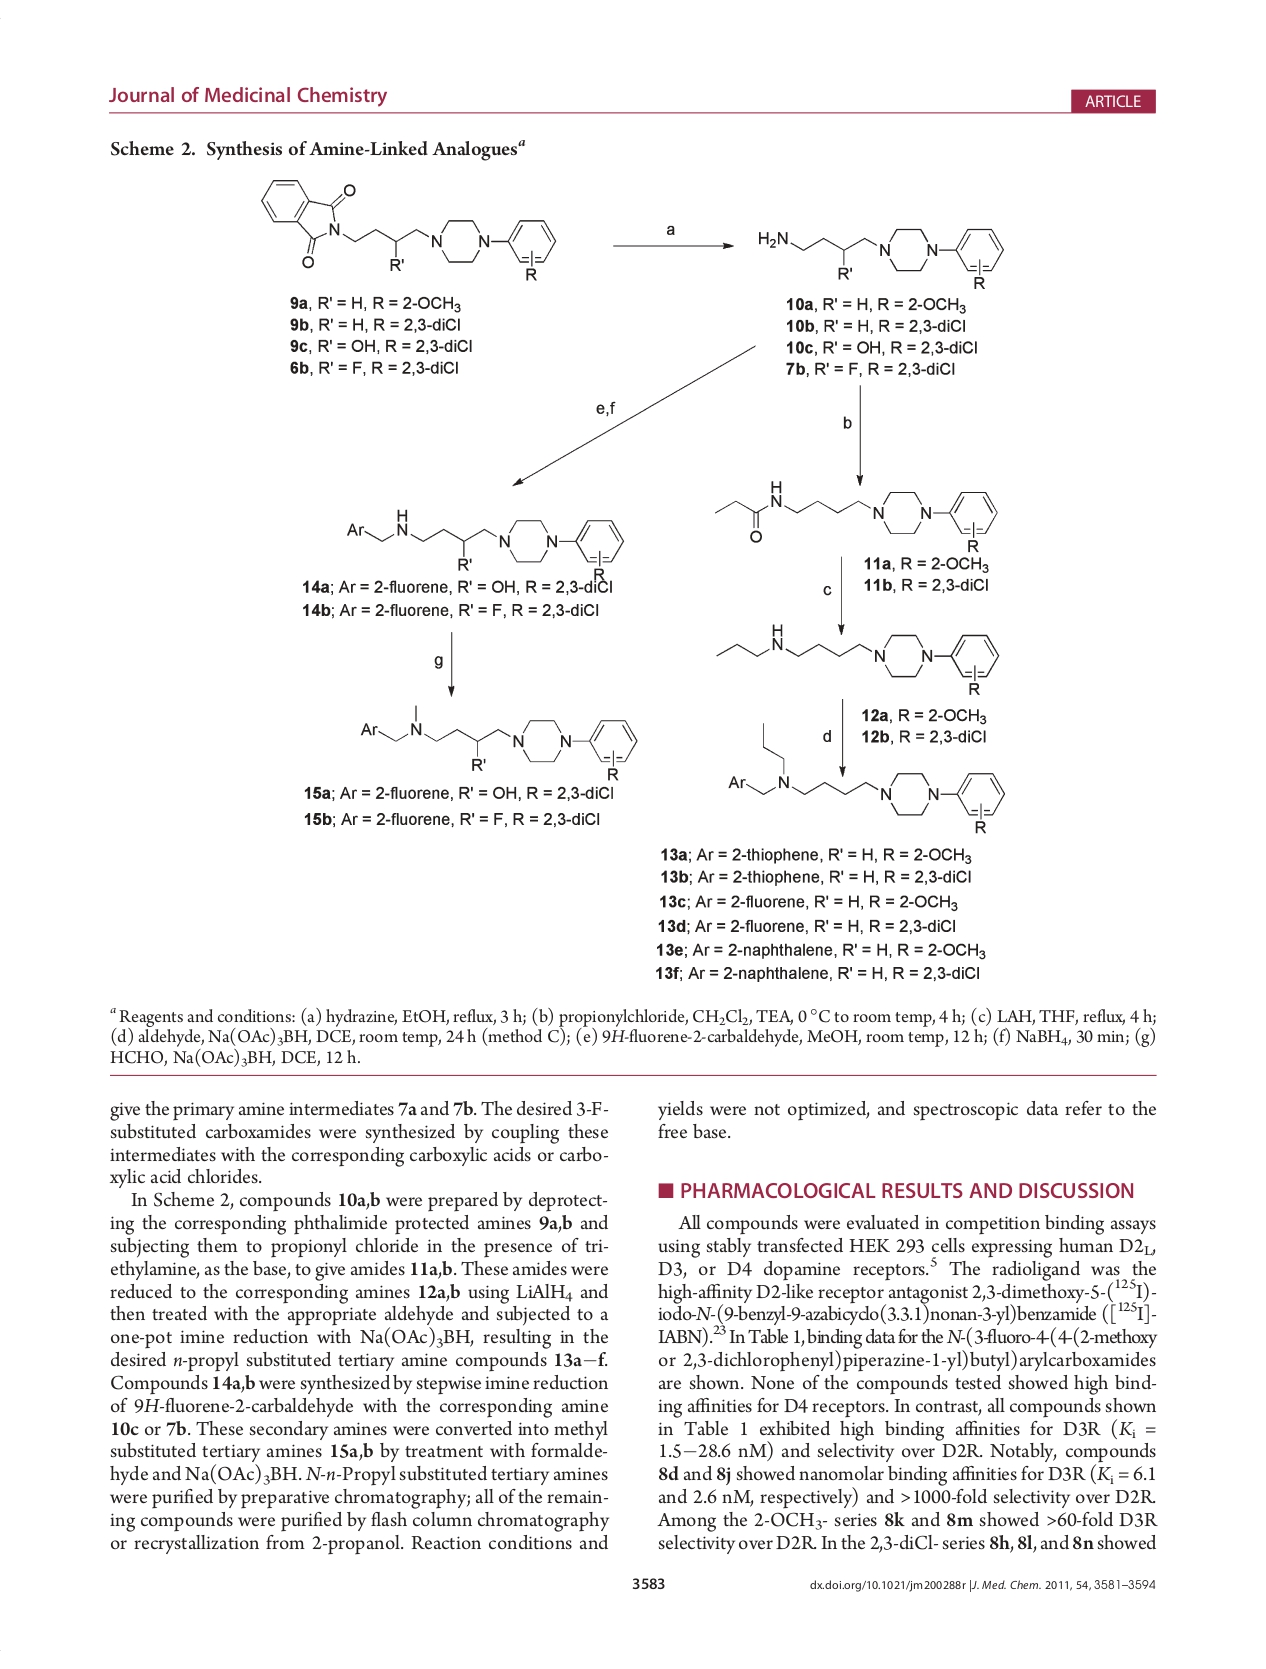exist_molecular: (725, 719, 1009, 835), (259, 177, 559, 282), (340, 501, 624, 582), (358, 704, 641, 783), (711, 477, 1000, 555), (713, 621, 1001, 697), (754, 219, 1005, 293)
